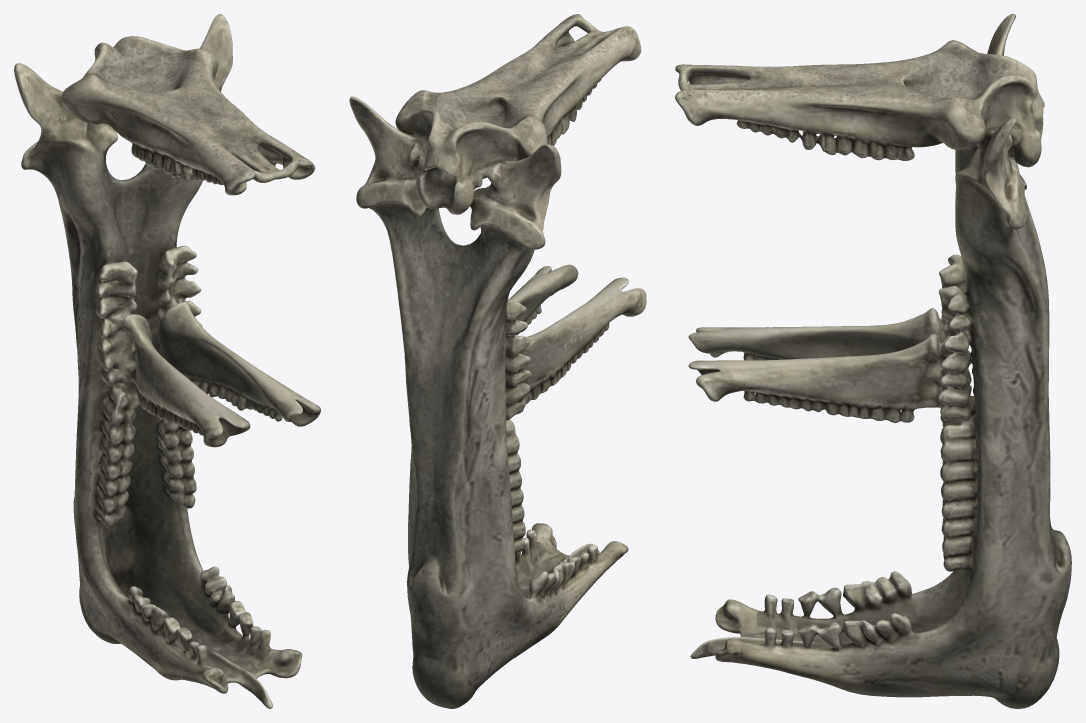
The picture shows the model from 3 angles, left to right: view 1: azimuth 30°, elevation 25°; view 2: azimuth 150°, elevation 25°; view 3: azimuth 270°, elevation 25°; orthographic projection. The views are drawn at different scales.
Visible parts, largest first — view 1: mesh_node; view 2: mesh_node; view 3: mesh_node.
Boxes of the visible parts, <box> form: mesh_node: <box>14,14,320,708</box>; mesh_node: <box>349,14,646,708</box>; mesh_node: <box>675,14,1071,708</box>.
Size of the model in its own units: 0.5692 by 1.55 by 0.8695.
Materials: 1 (1 with a texture image).
